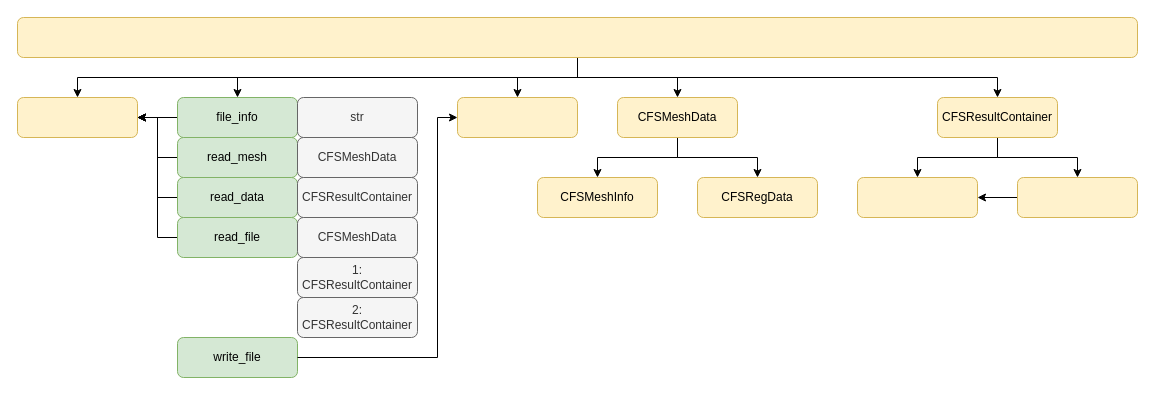
Image size: 1155x395. Some labels were removed from this diagram. The shapes that lost their labels are listed below. From the top down, each one's centre as x and y in pixels, then its label:
At (x=577, y=37): "pyCFS.data.io".
At (x=77, y=117): "CFSReader".
At (x=517, y=117): "CFSWriter".
At (x=917, y=197): "CFSResultInfo".
At (x=1077, y=197): "CFSResultArray".
